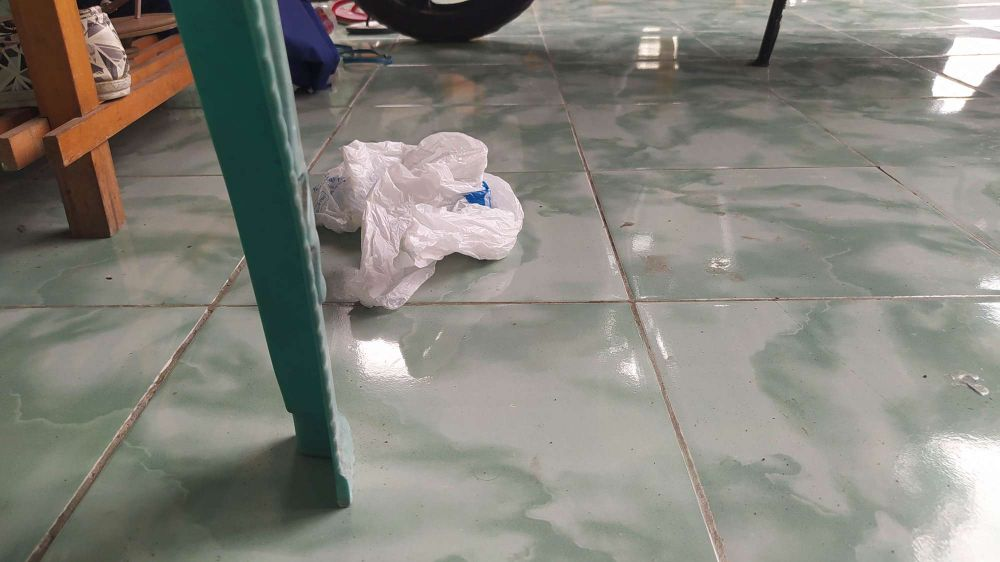plastik: (307, 141, 533, 308)
